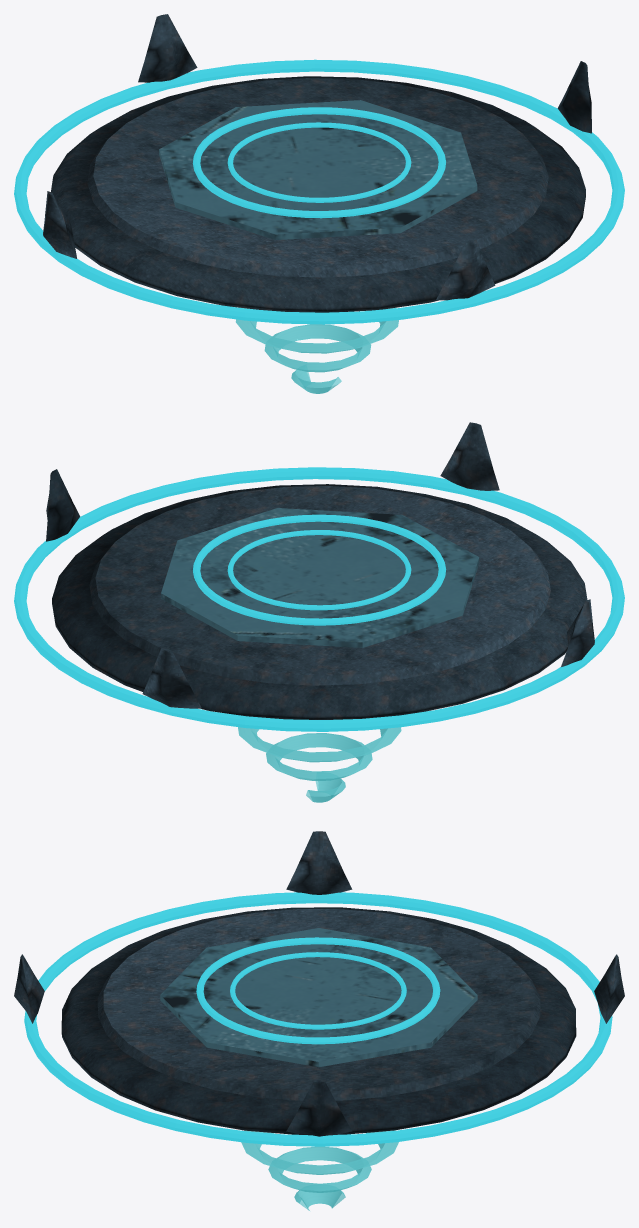
Rendered from floating_platform1.glb.
3 views of the same model, one above another, from view 1: azimuth 30°, elevation 25°; view 2: azimuth 150°, elevation 25°; view 3: azimuth 270°, elevation 25° (orthographic). The views are drawn at different scales.
Parts seen in each view (by area): view 1: Object003_Material #4_0.001; view 2: Object003_Material #4_0.001; view 3: Object003_Material #4_0.001.
Boxes of the visible parts, x1,y1,x2,y2 form: Object003_Material #4_0.001: (14,14,624,393); Object003_Material #4_0.001: (14,422,624,802); Object003_Material #4_0.001: (14,831,624,1210).
Bounding box in the file's own units: 6.34 × 2.88 × 6.35.
Materials: 4 (3 with a texture image).
